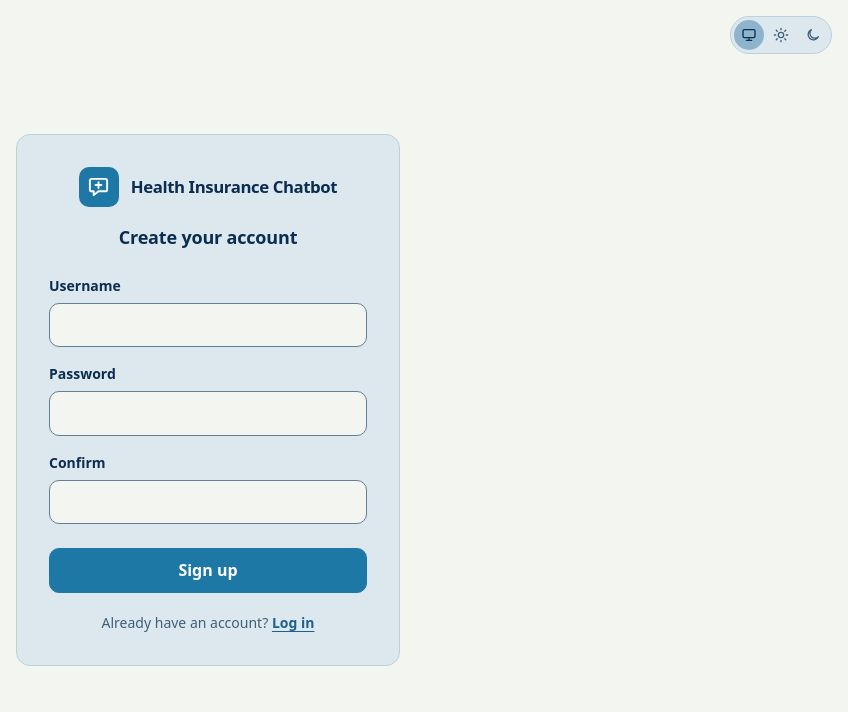
SignupPage form errors › shows error for short password
The width and height of the screenshot is (848, 712).
Type "alice" into the field at [208, 325], box [49,303,367,347]
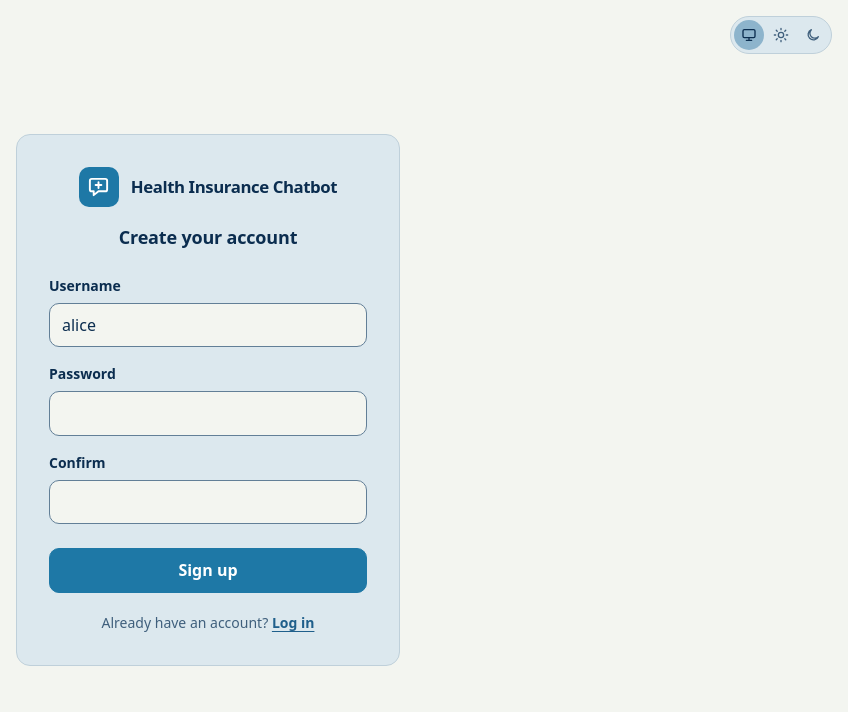
Type "short" into the 1st password field at [208, 413], box [49,391,367,436]
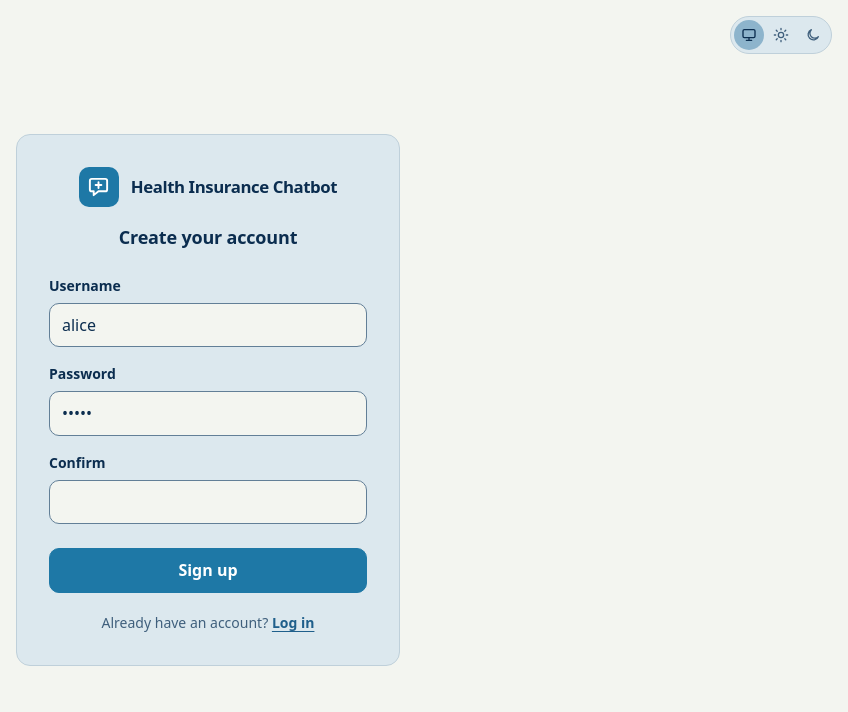
Type "short" into the 2nd password field at [208, 502], box [49,480,367,524]
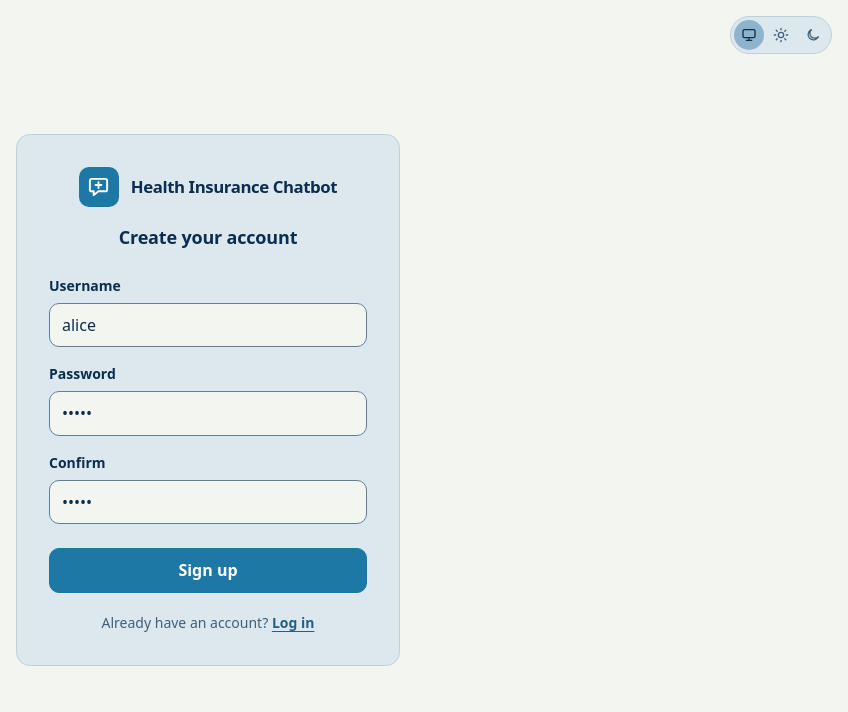
Click the button "Sign up" at [208, 571], box [49,548,367,593]
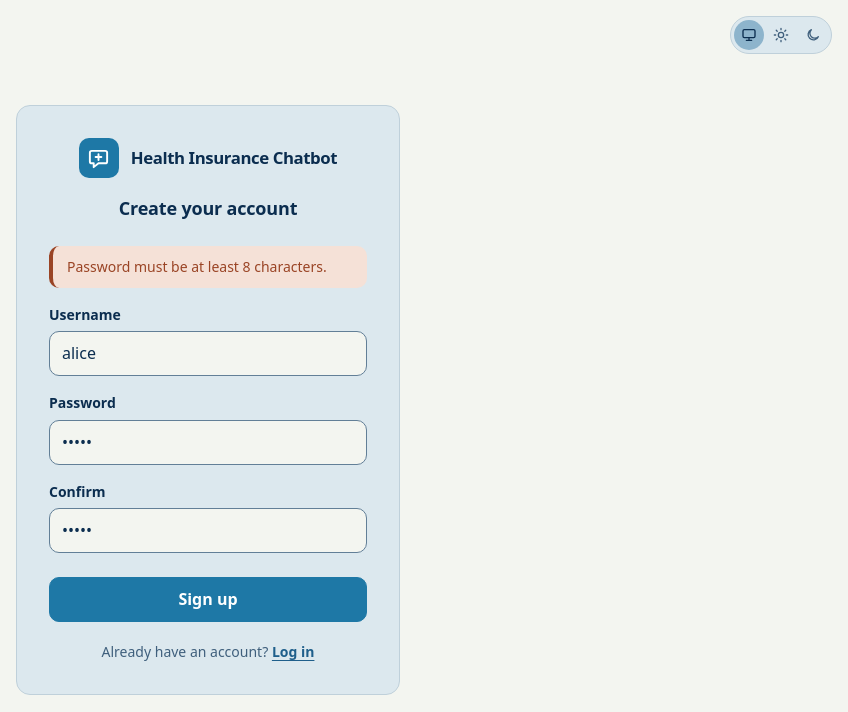
Expected: the message shows "at least 8 characters", [67,257,327,276]
